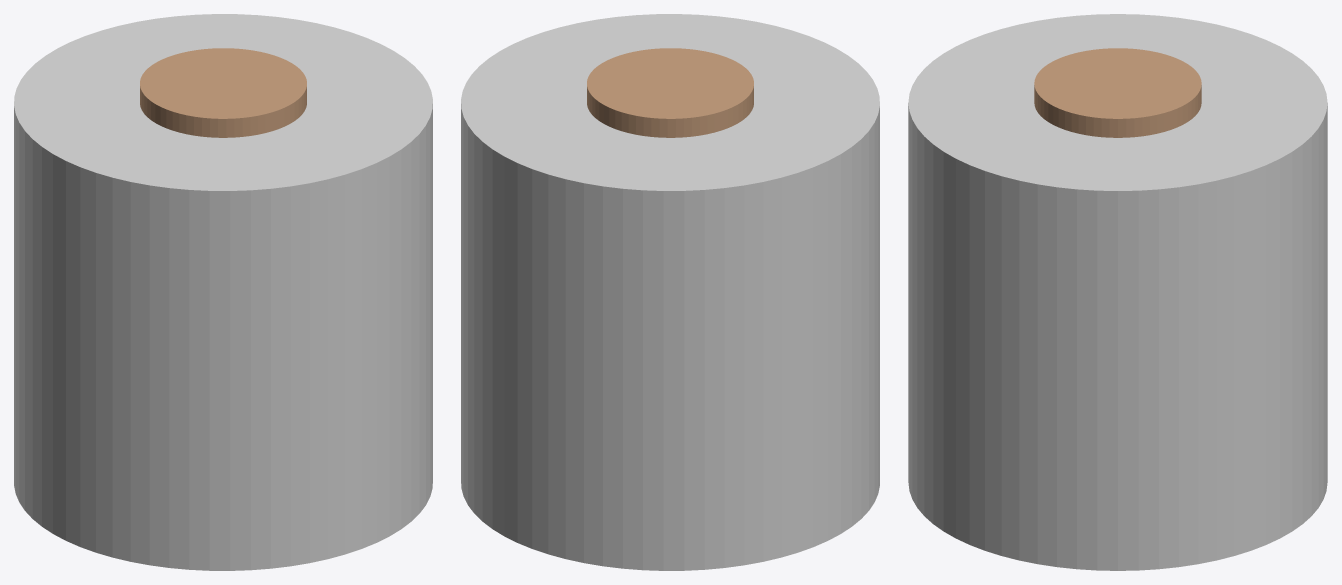
The model's file is Paper.fbx.
3 renders of one model, left to right at view 1: azimuth 30°, elevation 25°; view 2: azimuth 150°, elevation 25°; view 3: azimuth 270°, elevation 25°, orthographic.
Parts seen in each view (by area): view 1: Cylinder; view 2: Cylinder; view 3: Cylinder.
Boxes of the visible parts, bbox=[...] form: Cylinder: bbox=[14, 14, 432, 570]; Cylinder: bbox=[461, 14, 879, 570]; Cylinder: bbox=[908, 14, 1327, 570].
Size of the model in its own units: 200 by 220 by 200.
